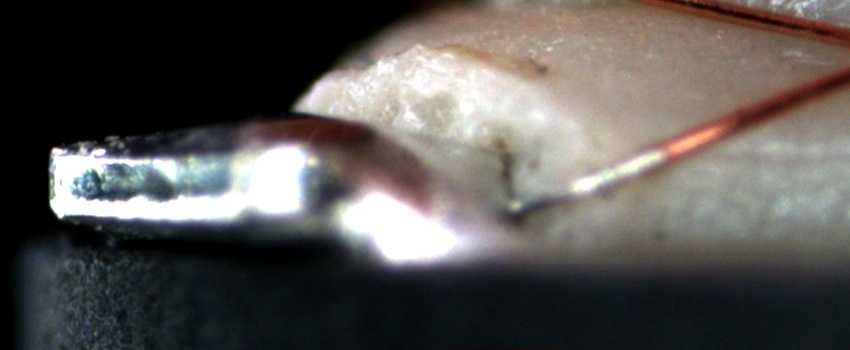DL: (688, 124, 849, 188)
TS: (506, 149, 670, 216)
